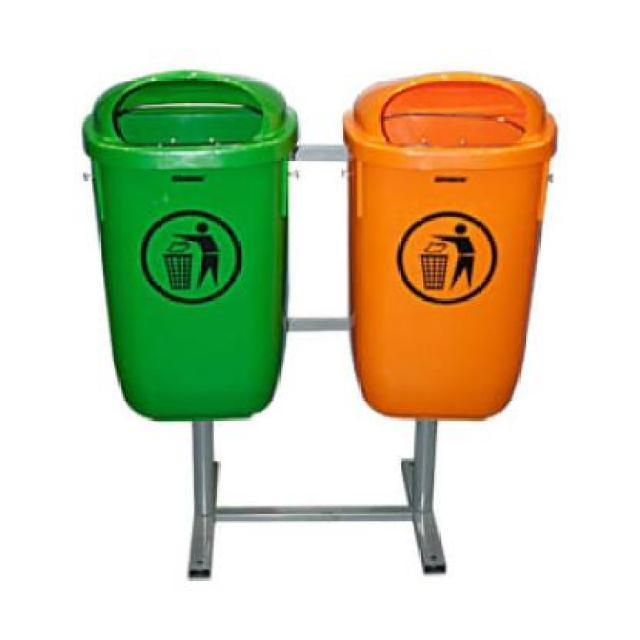garbage container: (330, 59, 567, 432), (79, 65, 315, 438)
